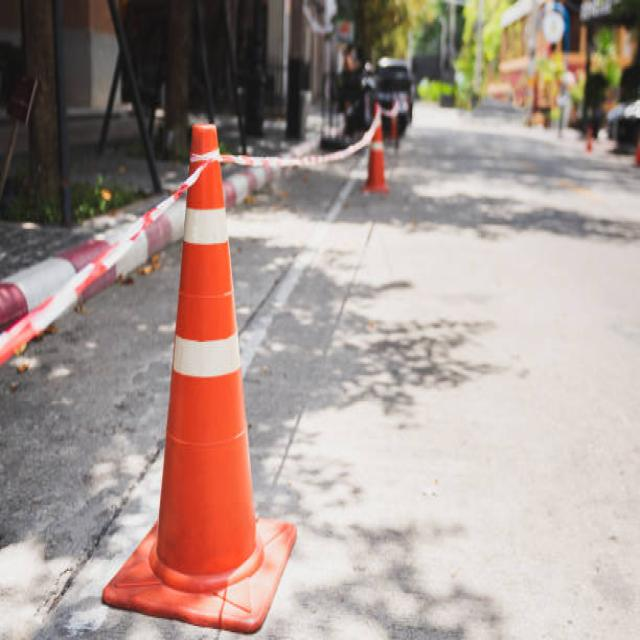Traffic Cone: (86, 99, 312, 640)
